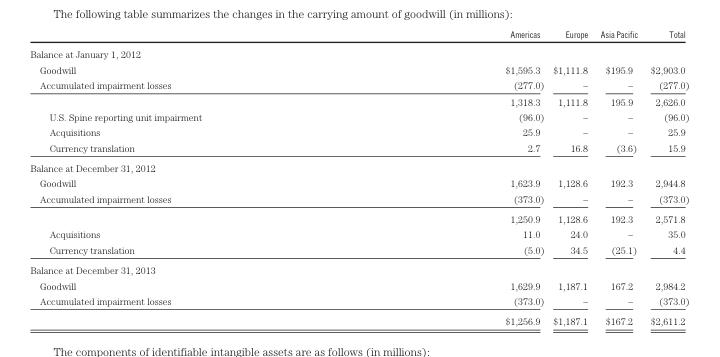table: (29, 28, 688, 326)
table column: (29, 28, 352, 326), (352, 28, 547, 326), (593, 28, 643, 326), (547, 28, 593, 326), (643, 28, 688, 326)
table column header: (29, 28, 688, 43)
table projected row header: (29, 43, 688, 61), (29, 157, 688, 175), (29, 259, 688, 277)
table row: (29, 43, 688, 61), (29, 139, 688, 157), (29, 157, 688, 175), (29, 190, 688, 208), (29, 208, 688, 226), (29, 241, 688, 259), (29, 259, 688, 277), (29, 292, 688, 310), (29, 76, 688, 92), (29, 92, 688, 108), (29, 108, 688, 124), (29, 310, 688, 326), (29, 28, 688, 43), (29, 61, 688, 76), (29, 124, 688, 139), (29, 175, 688, 190), (29, 226, 688, 241), (29, 277, 688, 292)
